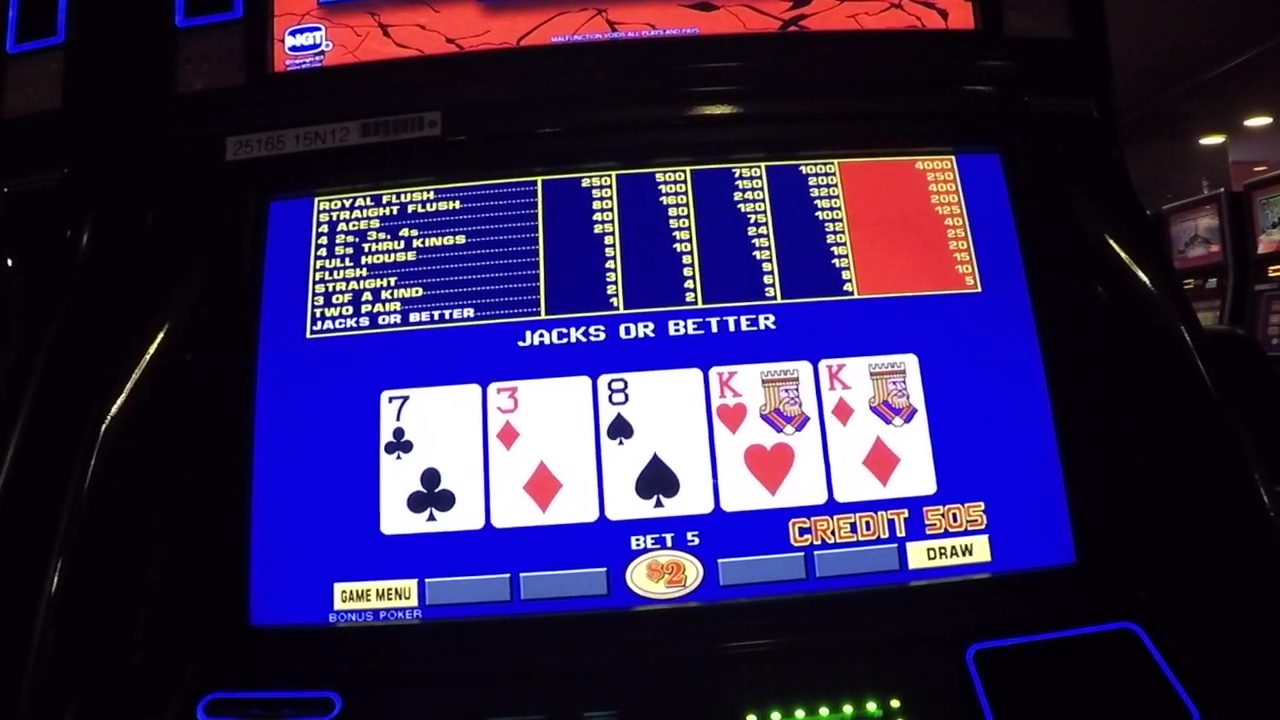C7: (383, 393, 481, 461)
D3: (490, 386, 592, 454)
DK: (826, 360, 920, 435)
HK: (715, 369, 814, 441)
S8: (601, 375, 703, 452)
